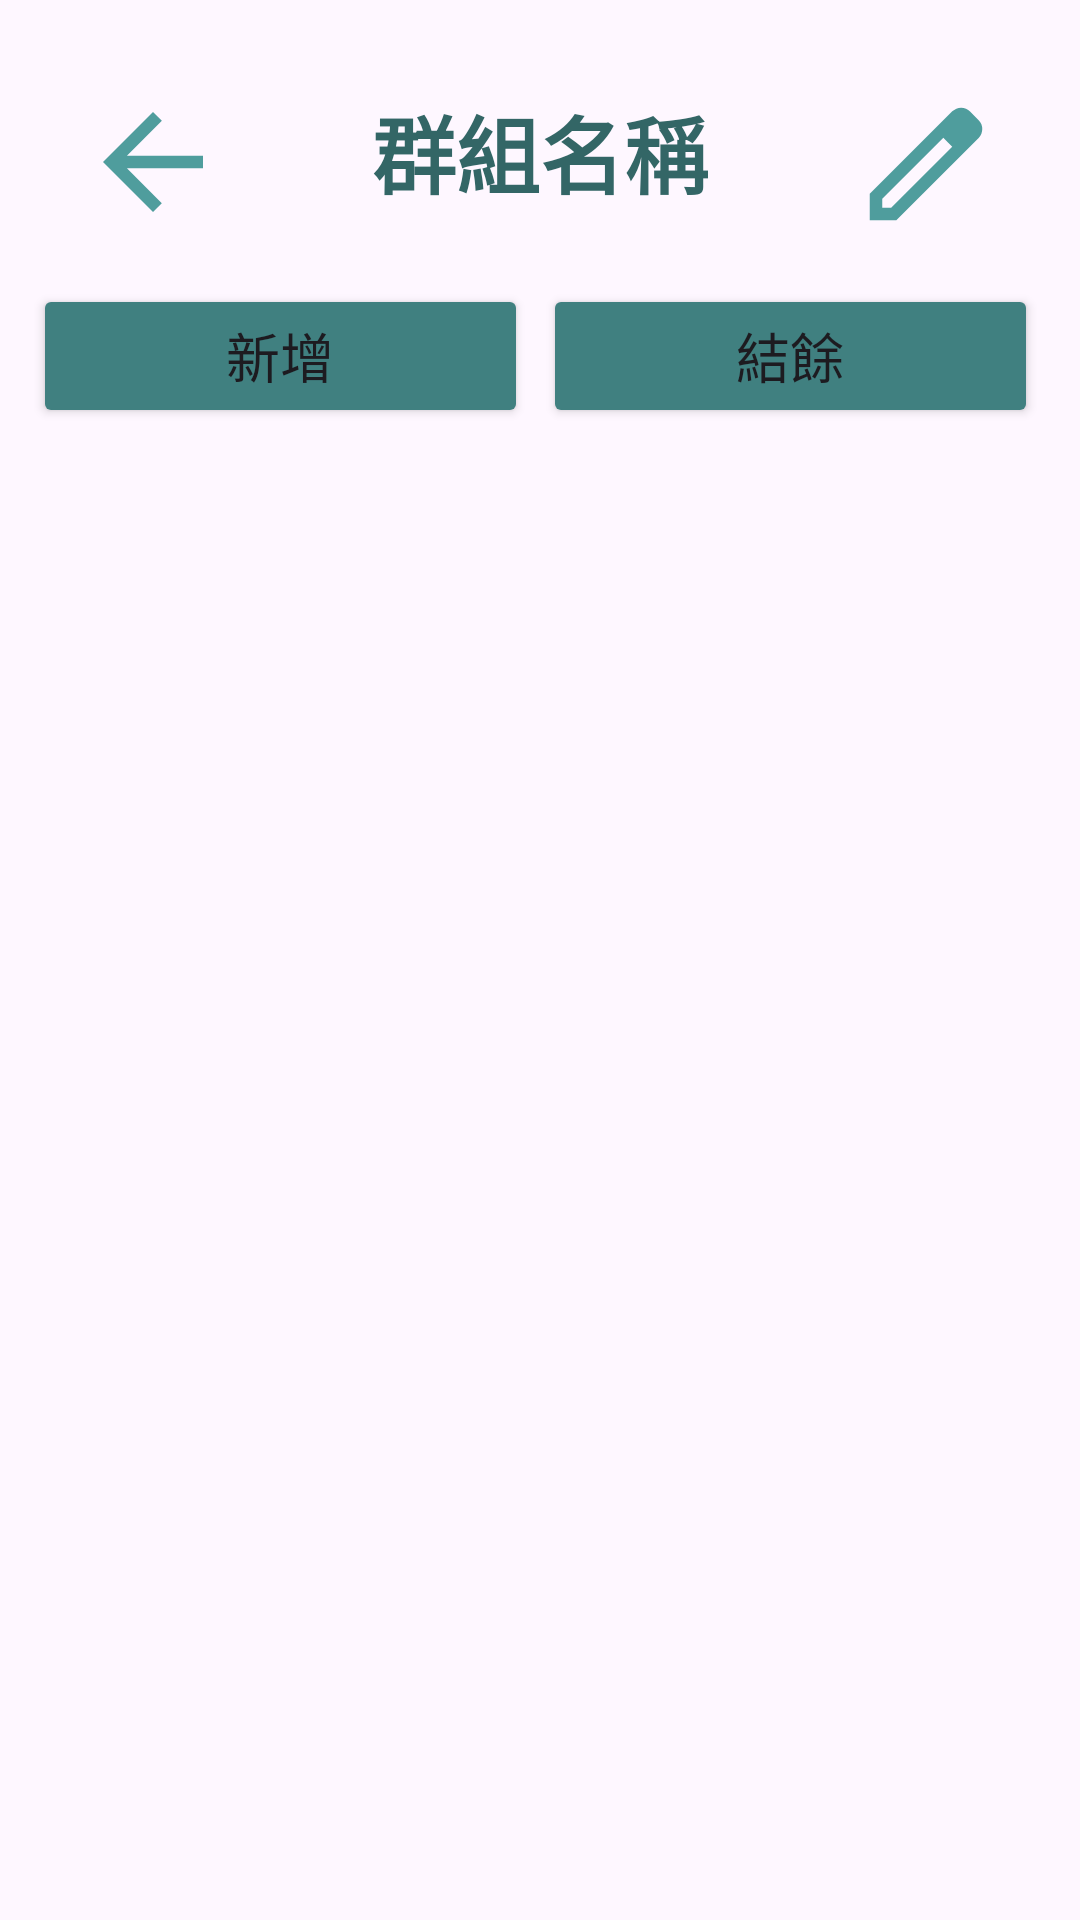

Icon click points for this 1080px×1920px phone screenshot, format point (x, y):
back: point (153, 162)
edit: point (926, 164)
